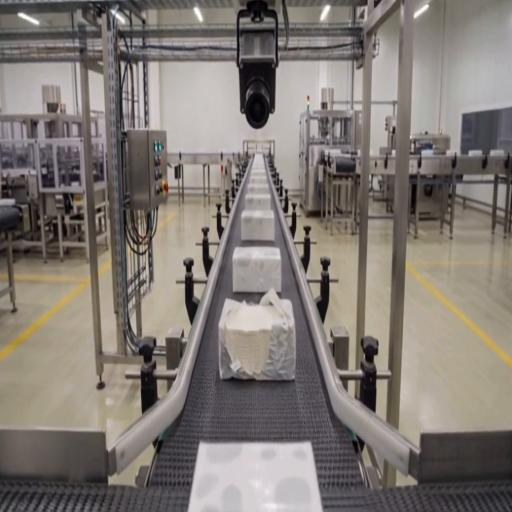defective: (189, 439, 321, 512), (218, 293, 296, 380)
good: (232, 246, 282, 296), (240, 208, 276, 244), (244, 182, 272, 206), (242, 196, 272, 218), (246, 169, 270, 186), (248, 157, 268, 171), (250, 152, 268, 160)
